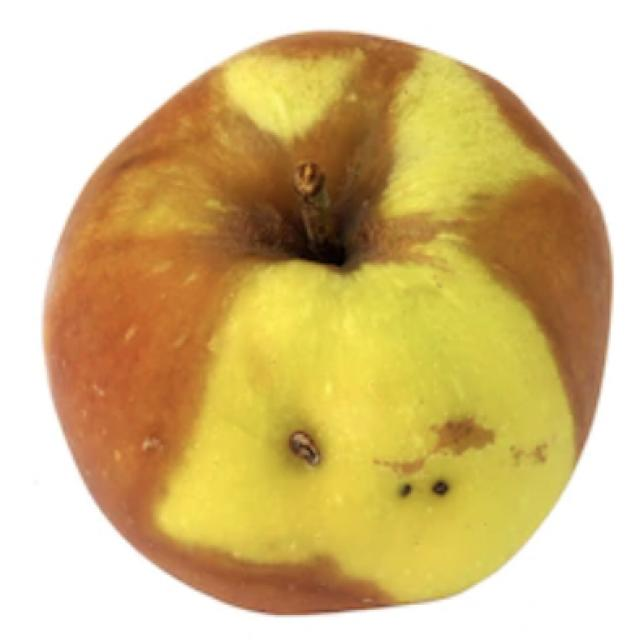rotten_apple: (42, 27, 619, 610)
